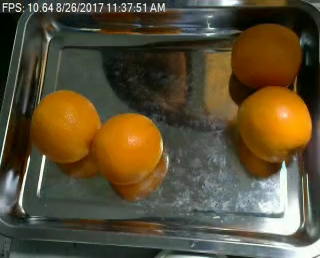Orange: (237, 84, 314, 164), (92, 112, 164, 182), (31, 89, 99, 163), (231, 23, 304, 90)
